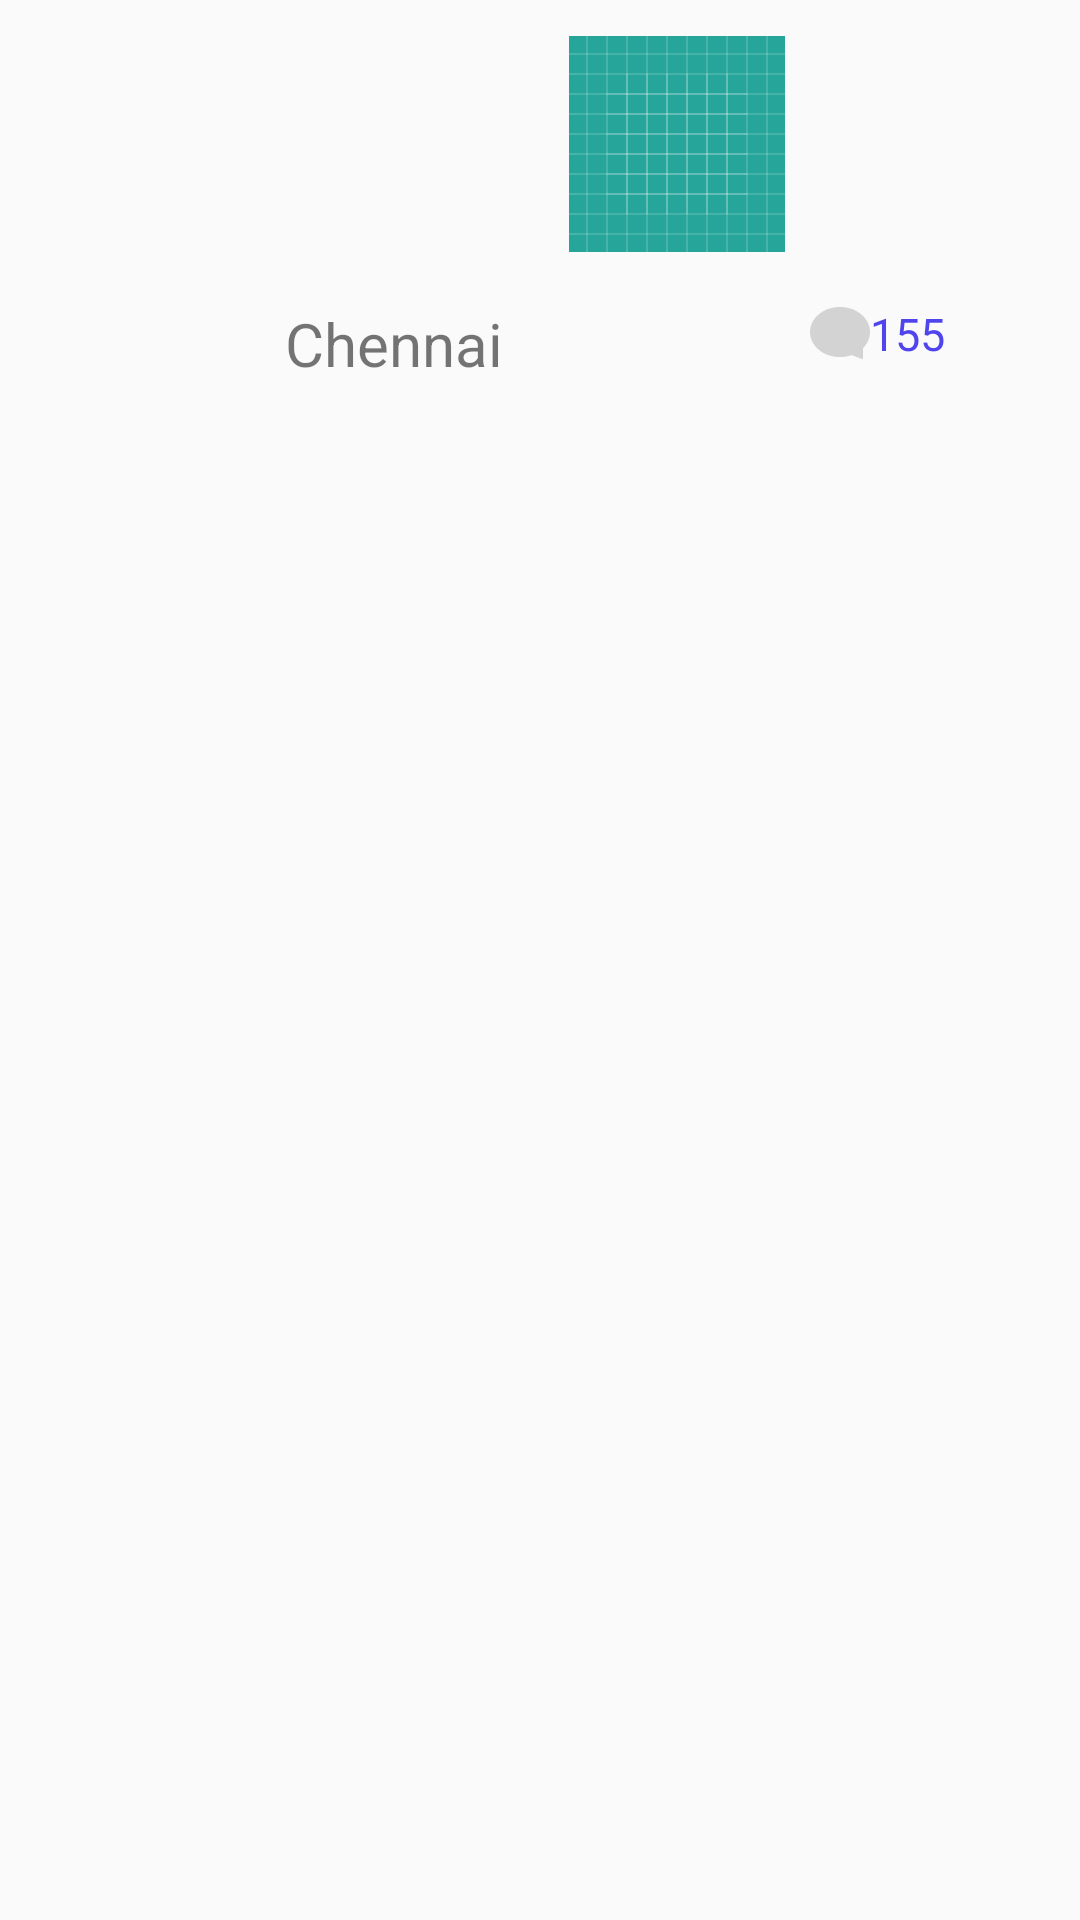

Icons on this 1080*1920 Android screen, each with its box as (x1, y1, x2, y2):
comments: (810, 307, 870, 359)
